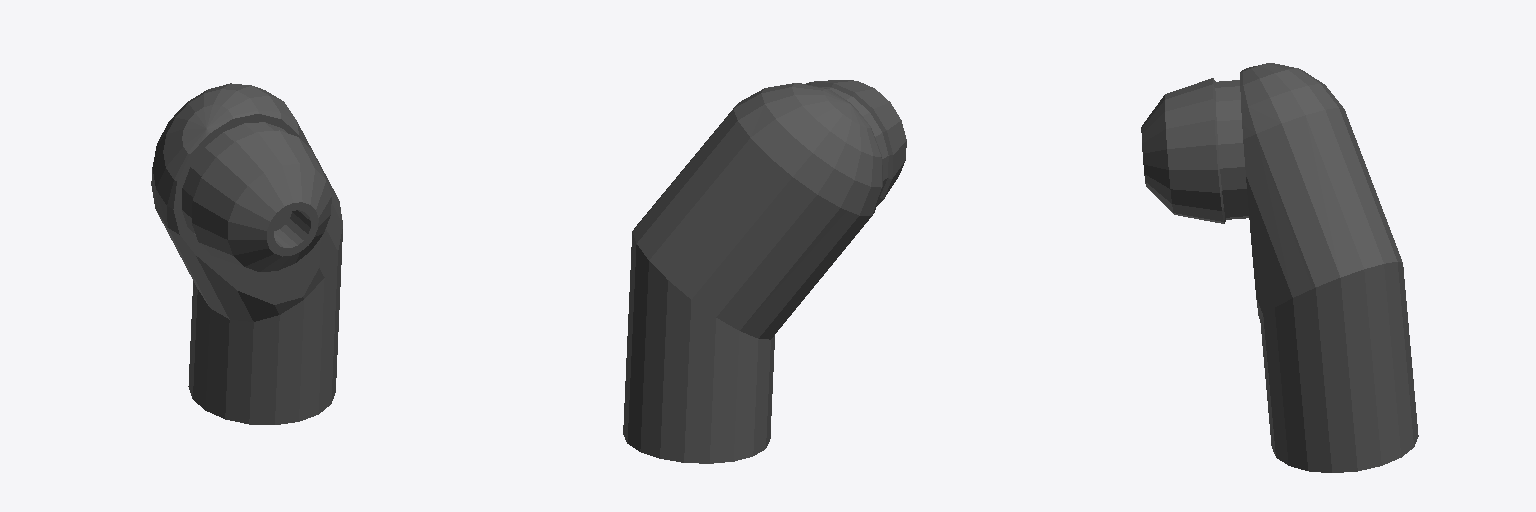
The model's file is LeoDart_right_arm.obj.
3 renders of one model, left to right at view 1: azimuth 30°, elevation 25°; view 2: azimuth 150°, elevation 25°; view 3: azimuth 270°, elevation 25°, orthographic.
Visible parts, largest first — view 1: Cylinder01; view 2: Cylinder01; view 3: Cylinder01.
Part boxes in pixels (left/top/right/bottom): Cylinder01: left=151, top=83, right=342, bottom=424; Cylinder01: left=623, top=80, right=906, bottom=463; Cylinder01: left=1141, top=63, right=1418, bottom=472.
Bounding box in the file's own units: 0.6363 × 1.03 × 0.7518.